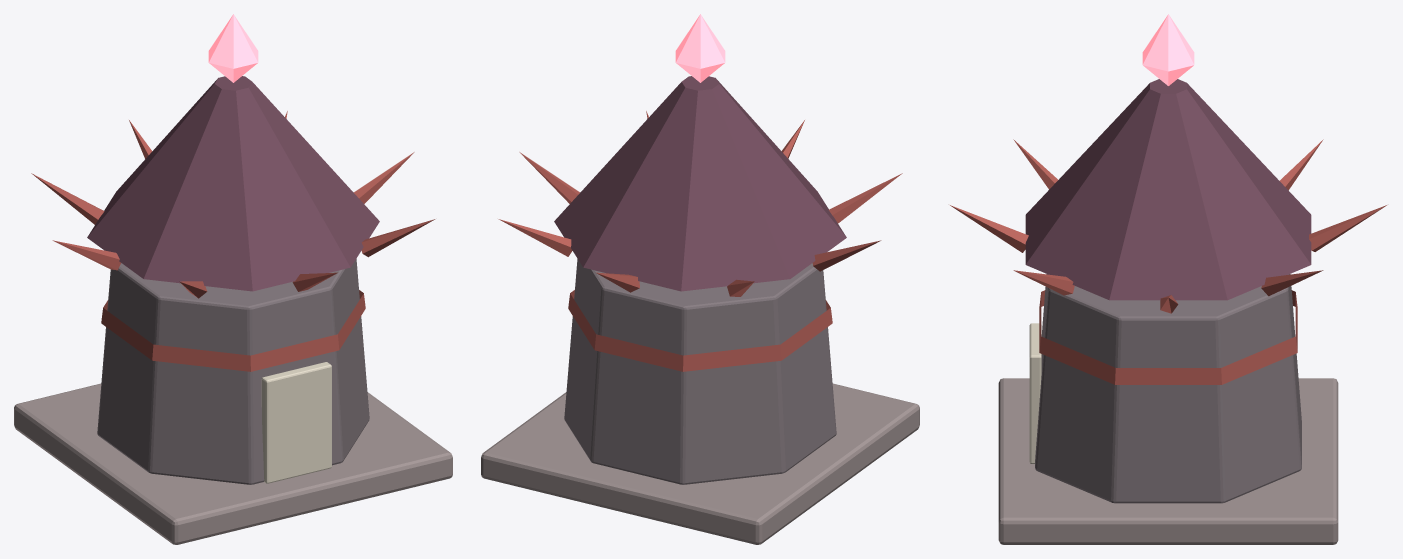
Rendered from rax_ranged_dusk.glb.
The picture shows the model from 3 angles, left to right: view 1: azimuth 30°, elevation 25°; view 2: azimuth 150°, elevation 25°; view 3: azimuth 270°, elevation 25°; orthographic projection. The views are drawn at different scales.
Parts seen in each view (by area): view 1: dome, hall, found, door, band, orb, ds7, ds3, ds4, ds0; view 2: hall, dome, found, band, orb, ds1, ds5, ds4, ds0; view 3: hall, dome, found, band, orb, door, ds2, ds6, ds7, ds1.
Part boxes in pixels (x1,y1,x2,y2): dome: [87, 76, 379, 291]; hall: [97, 258, 369, 484]; found: [14, 383, 452, 544]; door: [261, 362, 331, 483]; band: [101, 290, 365, 371]; orb: [208, 14, 258, 82]; ds7: [361, 219, 435, 257]; ds3: [31, 173, 104, 224]; ds4: [52, 240, 120, 270]; ds0: [354, 152, 414, 203]; hall: [564, 258, 836, 484]; dome: [554, 76, 846, 291]; found: [481, 383, 919, 544]; band: [568, 290, 832, 371]; orb: [675, 14, 725, 82]; ds1: [498, 219, 572, 256]; ds5: [829, 173, 902, 223]; ds4: [812, 240, 881, 271]; ds0: [519, 152, 579, 203]; hall: [1035, 274, 1301, 503]; dome: [1025, 79, 1311, 300]; found: [998, 378, 1338, 544]; band: [1039, 290, 1297, 384]; orb: [1142, 14, 1194, 85]; door: [1029, 323, 1041, 463]; ds2: [1309, 205, 1386, 251]; ds6: [950, 205, 1028, 252]; ds7: [1013, 270, 1074, 295]; ds1: [1261, 270, 1323, 296].
Size of the model in its own units: 4.41 by 5.1 by 4.41.
